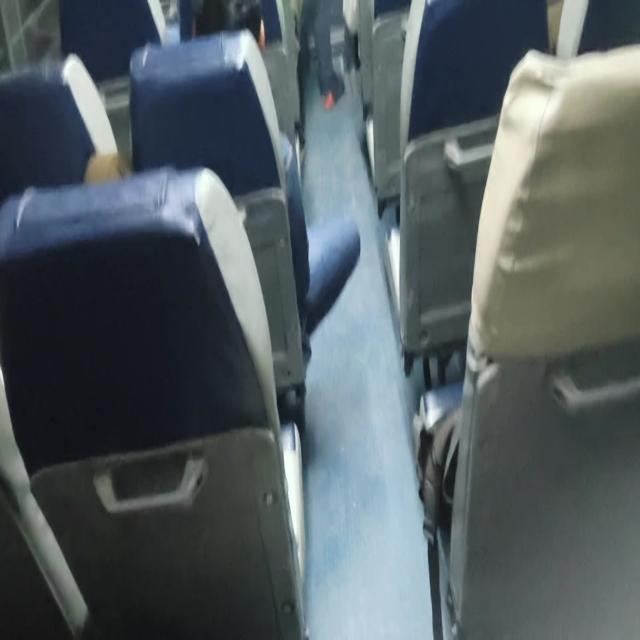person: (1, 1, 638, 637), (1, 159, 308, 637), (415, 40, 639, 637), (180, 1, 361, 363), (296, 0, 346, 111), (179, 0, 266, 54)
